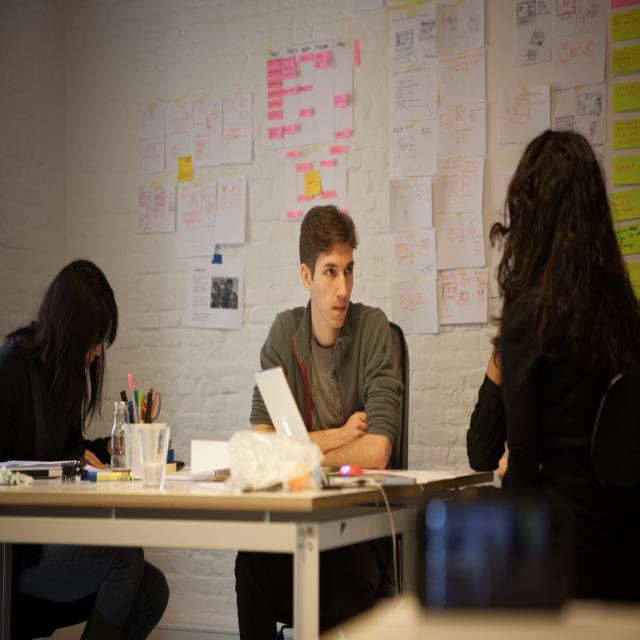chair: (385, 319, 409, 472)
desk: (0, 442, 445, 640)
laptop: (254, 364, 328, 476)
person: (466, 128, 640, 610), (231, 205, 404, 637), (0, 259, 170, 635)
